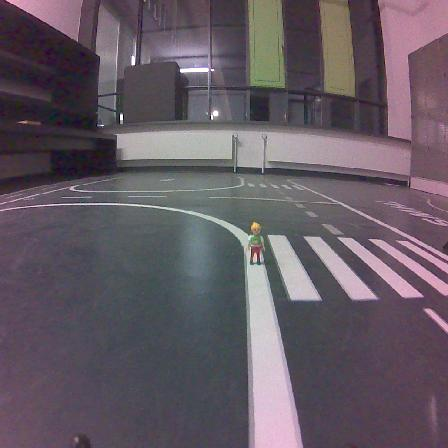CHILD: (247, 222, 264, 264)
